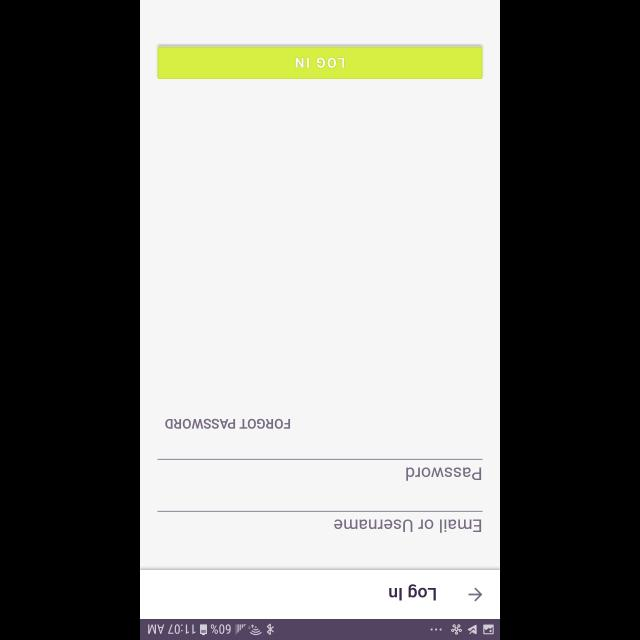icon: (468, 587, 482, 601)
input: (158, 458, 482, 482), (158, 510, 482, 532)
text: (334, 519, 482, 533), (166, 418, 290, 429), (406, 467, 480, 481), (388, 584, 436, 600)
textbutton: (158, 47, 482, 79)
uppertaskbar: (140, 618, 500, 640)
